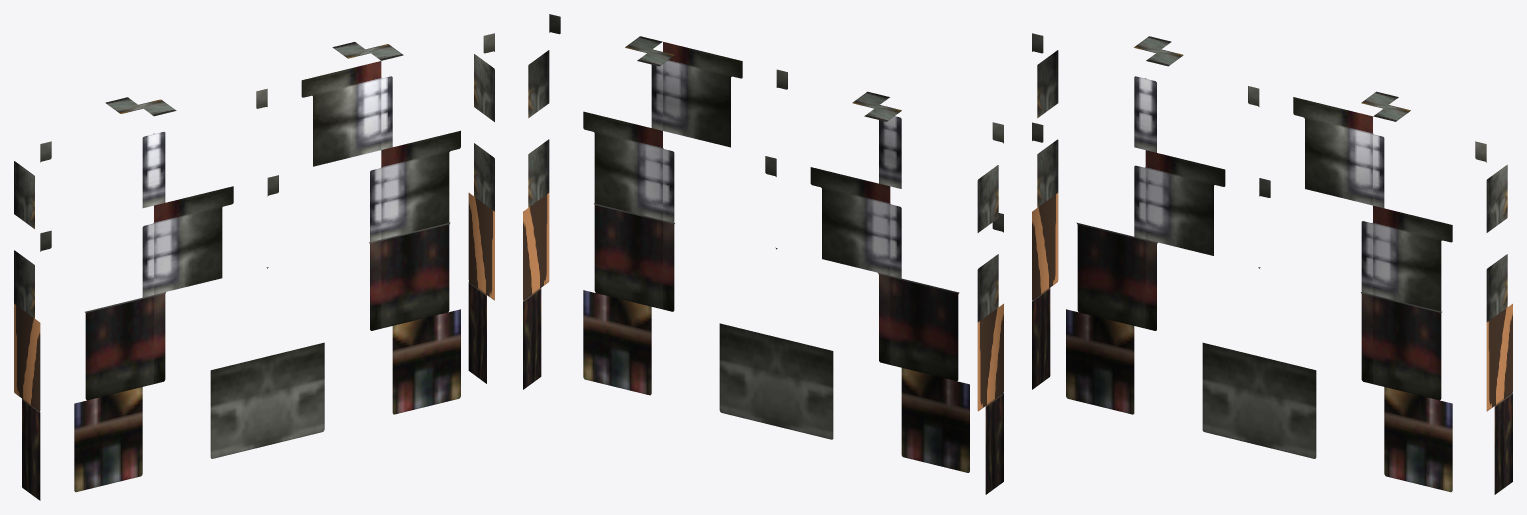
3 views of the same model, side by side, from view 1: azimuth 30°, elevation 25°; view 2: azimuth 150°, elevation 25°; view 3: azimuth 330°, elevation 25° (orthographic).
Visible parts, largest first — view 1: T1L4M002_12; view 2: T1L4M002_12; view 3: T1L4M002_12.
Part boxes in pixels (x1,y1,x2,y2): T1L4M002_12: (14, 33, 494, 500); T1L4M002_12: (523, 14, 1003, 494); T1L4M002_12: (1032, 33, 1512, 494).
Bounding box in the file's own units: 4 × 3 × 0.3994.
